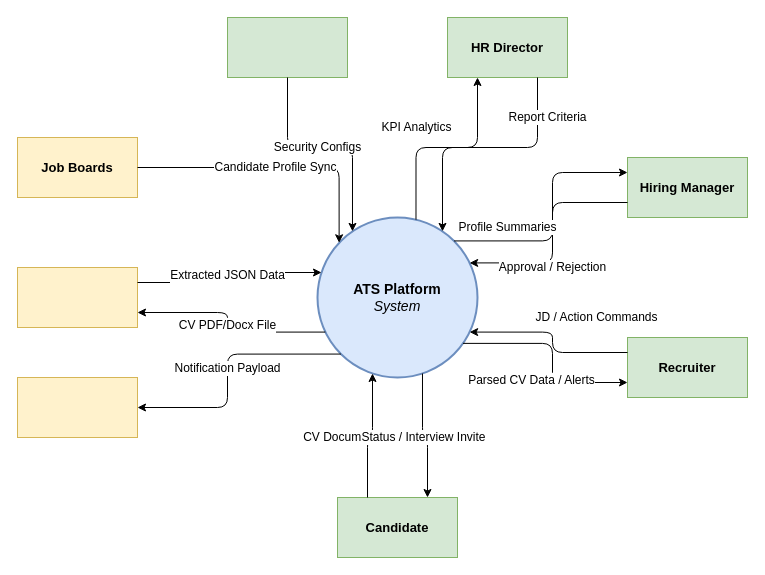
The diagram is 765 pixels wide and 575 high, and some of its shapes have lost their labels. Here are the shapes that lost their labels. From the top down, the centre of each, then its label:
At (287,47): "IT Admin".
At (77,297): "CV Parser API".
At (77,407): "Email System".
